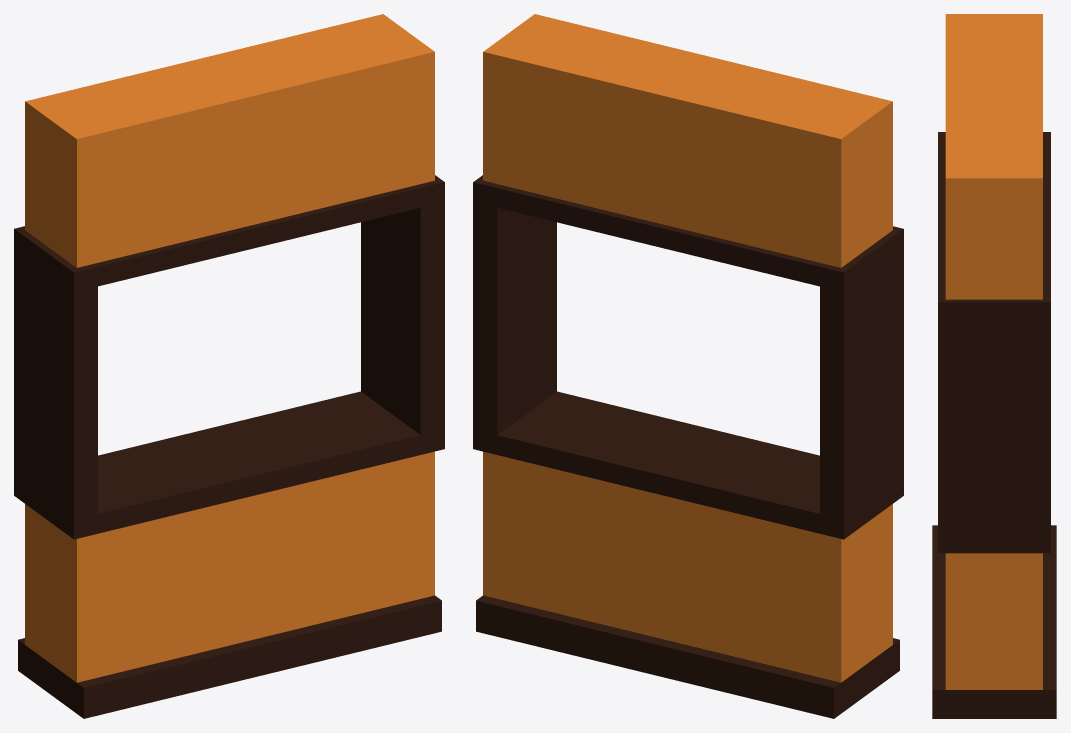
Rendered from mesh_windowhole.fbx.
The picture shows the model from 3 angles, left to right: view 1: azimuth 30°, elevation 25°; view 2: azimuth 150°, elevation 25°; view 3: azimuth 270°, elevation 25°; orthographic projection. The views are drawn at different scales.
Parts seen in each view (by area): view 1: mesh_windowhole_part2, mesh_windowhole_part, mesh_windowhole_part1; view 2: mesh_windowhole_part2, mesh_windowhole_part, mesh_windowhole_part1; view 3: mesh_windowhole_part, mesh_windowhole_part1, mesh_windowhole_part2.
Boxes of the visible parts, left/top/right/bottom form: mesh_windowhole_part2: left=18, top=451, right=441, bottom=718; mesh_windowhole_part: left=14, top=175, right=444, bottom=539; mesh_windowhole_part1: left=25, top=14, right=434, bottom=267; mesh_windowhole_part2: left=476, top=451, right=899, bottom=718; mesh_windowhole_part: left=473, top=175, right=903, bottom=539; mesh_windowhole_part1: left=483, top=14, right=892, bottom=267; mesh_windowhole_part: left=938, top=132, right=1050, bottom=553; mesh_windowhole_part1: left=945, top=14, right=1042, bottom=299; mesh_windowhole_part2: left=932, top=525, right=1056, bottom=718.
Size of the model in its own units: 50 by 74.01 by 15.4.
